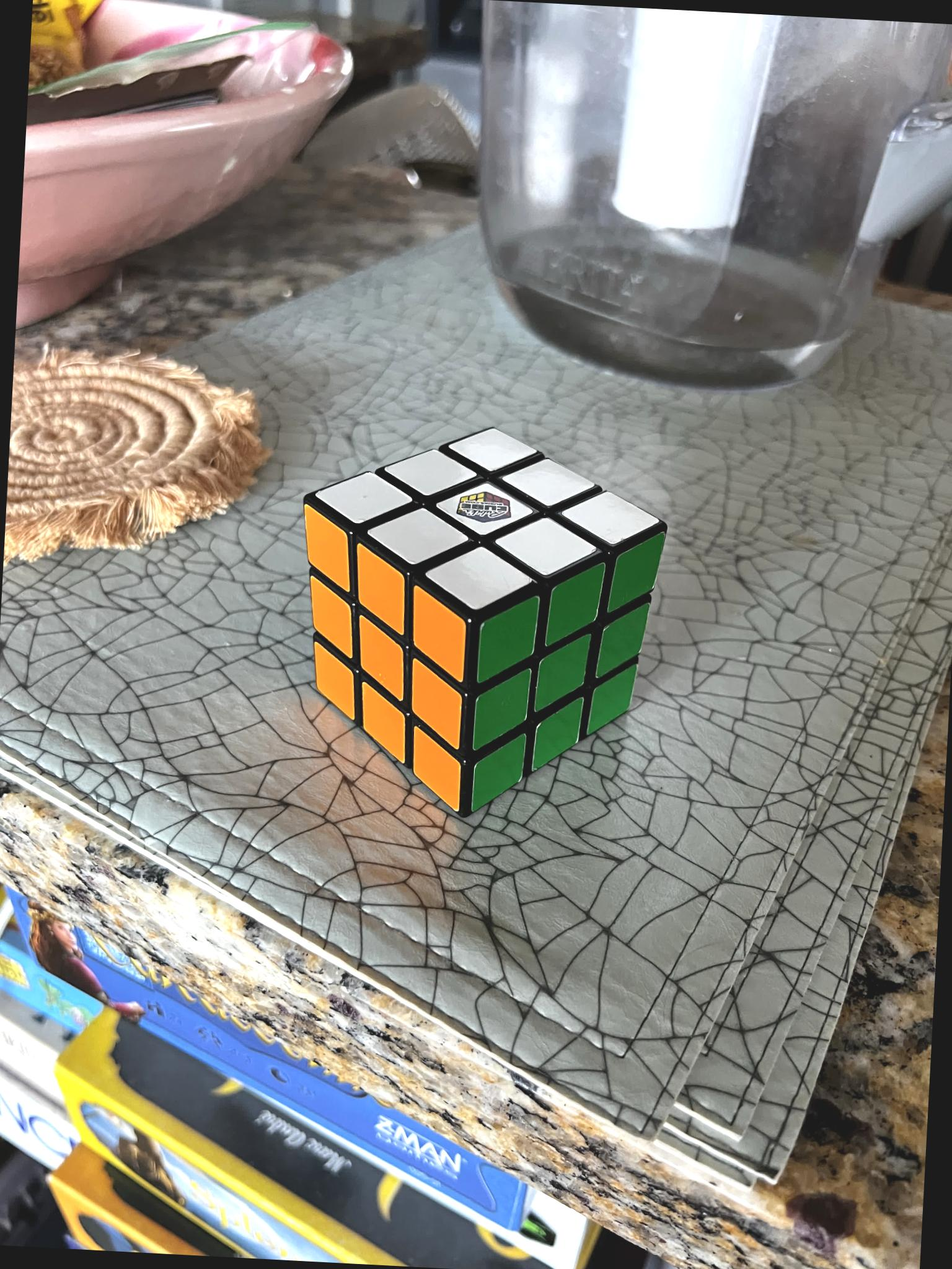rubiks_cube: (304, 427, 665, 811)
